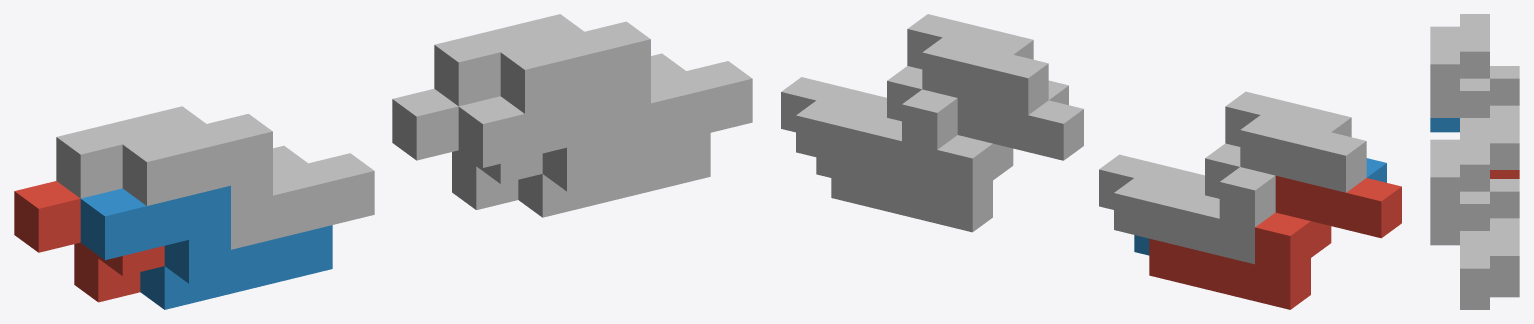
File: tiling.obj
3 views of the same model, side by side, from view 1: azimuth 30°, elevation 25°; view 2: azimuth 150°, elevation 25°; view 3: azimuth 270°, elevation 25° (orthographic). The views are drawn at different scales.
Parts seen in each view (by area): view 1: copy_1_domain_4, copy_1_domain_8, copy_1_domain_2, copy_1_domain_6, copy_1_domain_5, copy_1_domain_1, copy_1_domain_3, copy_1_domain_7; view 2: copy_1_domain_7, copy_1_domain_3, copy_1_domain_5, copy_1_domain_1, copy_1_domain_8, copy_1_domain_4, copy_1_domain_6, copy_1_domain_2; view 3: copy_1_domain_8, copy_1_domain_3, copy_1_domain_7, copy_1_domain_4, copy_1_domain_6, copy_1_domain_2, copy_1_domain_5, copy_1_domain_1.
Boxes of the visible parts, box(x1,y1,x2,y2) form: copy_1_domain_4: box(122, 114, 374, 249); copy_1_domain_8: box(500, 21, 752, 157); copy_1_domain_2: box(80, 185, 332, 309); copy_1_domain_6: box(458, 93, 710, 217); copy_1_domain_5: box(392, 88, 542, 209); copy_1_domain_1: box(14, 181, 164, 302); copy_1_domain_3: box(56, 106, 307, 198); copy_1_domain_7: box(434, 14, 685, 106); copy_1_domain_7: box(796, 37, 1048, 186); copy_1_domain_3: box(1114, 115, 1366, 264); copy_1_domain_5: box(831, 98, 1083, 232); copy_1_domain_1: box(1149, 175, 1401, 309); copy_1_domain_8: box(781, 14, 1033, 132); copy_1_domain_4: box(1099, 91, 1351, 209); copy_1_domain_6: box(816, 80, 1068, 177); copy_1_domain_2: box(1134, 158, 1386, 255); copy_1_domain_8: box(1430, 139, 1489, 295); copy_1_domain_3: box(1460, 14, 1519, 169); copy_1_domain_7: box(1460, 127, 1519, 282); copy_1_domain_4: box(1430, 26, 1489, 126); copy_1_domain_6: box(1430, 231, 1489, 309); copy_1_domain_2: box(1430, 118, 1459, 132); copy_1_domain_5: box(1490, 283, 1519, 297); copy_1_domain_1: box(1490, 170, 1519, 178).
Bounding box in the file's own units: 17 × 4 × 3.
